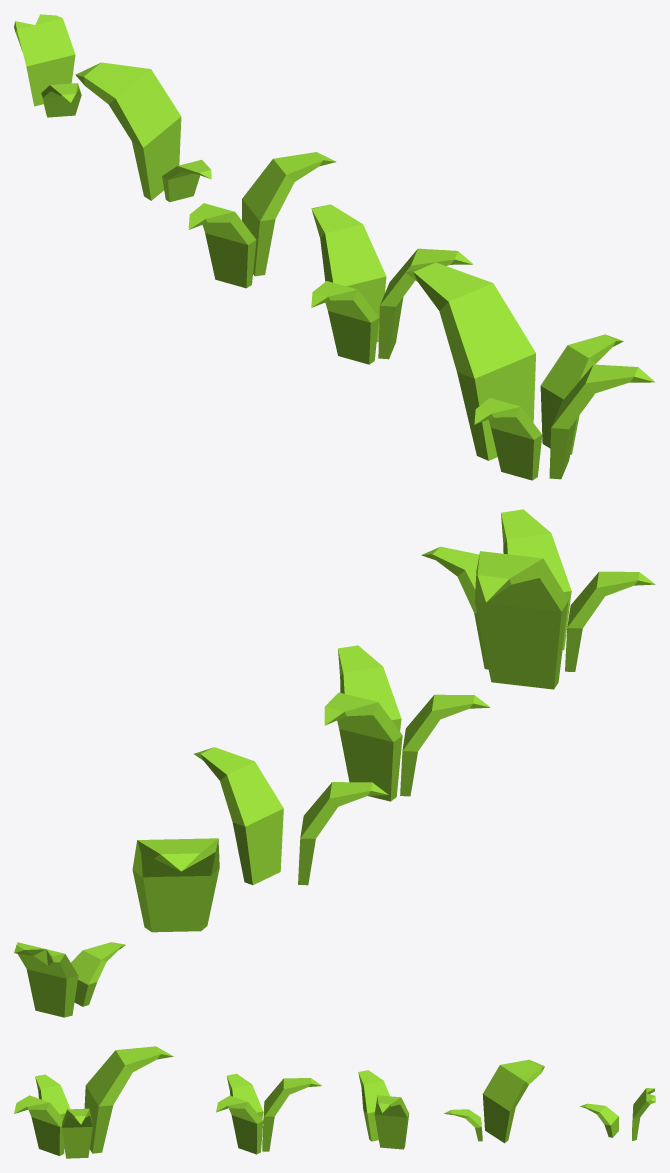
The model's file is Grass.fbx.
3 views of the same model, one above another, from view 1: azimuth 30°, elevation 25°; view 2: azimuth 150°, elevation 25°; view 3: azimuth 270°, elevation 25° (orthographic). The views are drawn at different scales.
Visible parts, largest first — view 1: Grass-5, Grass-4, Grass-2, Grass-3, Grass-1; view 2: Grass-5, Grass-4, Grass-3, Grass-2, Grass-1; view 3: Grass-5, Grass-4, Grass-2, Grass-3, Grass-1.
Part boxes in pixels (x1=…): Grass-5: x1=406, y1=262, x2=655, y2=480; Grass-4: x1=311, y1=204, x2=473, y2=364; Grass-2: x1=75, y1=62, x2=211, y2=202; Grass-3: x1=188, y1=152, x2=336, y2=288; Grass-1: x1=14, y1=14, x2=81, y2=117; Grass-5: x1=421, y1=509, x2=655, y2=689; Grass-4: x1=324, y1=645, x2=490, y2=801; Grass-3: x1=194, y1=747, x2=388, y2=885; Grass-2: x1=132, y1=838, x2=219, y2=932; Grass-1: x1=14, y1=942, x2=125, y2=1017; Grass-5: x1=14, y1=1046, x2=173, y2=1158; Grass-4: x1=216, y1=1073, x2=321, y2=1154; Grass-2: x1=444, y1=1059, x2=544, y2=1143; Grass-3: x1=358, y1=1070, x2=409, y2=1149; Grass-1: x1=580, y1=1088, x2=655, y2=1140.
Size of the model in its own units: 34.2 by 24.27 by 157.
